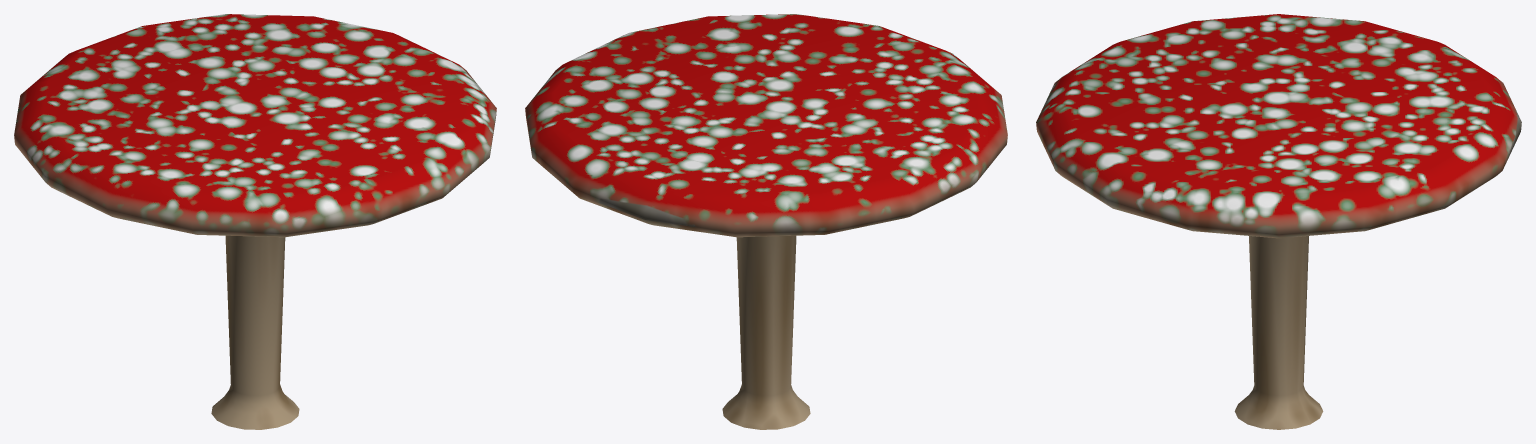
File: Medium Mushroom.fbx
3 renders of one model, left to right at view 1: azimuth 30°, elevation 25°; view 2: azimuth 150°, elevation 25°; view 3: azimuth 270°, elevation 25°, orthographic.
Parts seen in each view (by area): view 1: Medium Mushroom; view 2: Medium Mushroom; view 3: Medium Mushroom.
Boxes of the visible parts, x1=… form: Medium Mushroom: x1=14, y1=14, x2=496, y2=429; Medium Mushroom: x1=525, y1=14, x2=1007, y2=429; Medium Mushroom: x1=1036, y1=14, x2=1521, y2=429.
Bounding box in the file's own units: 5.95 × 5.95 × 4.14.
1 material, 1 textured.
